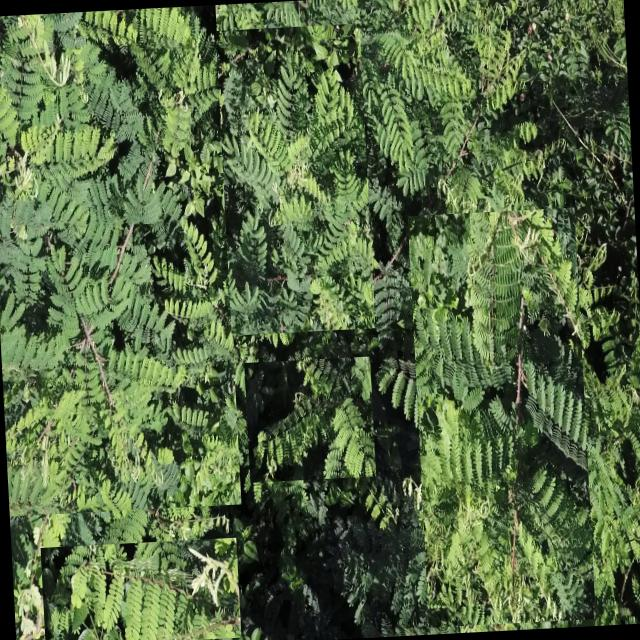Mysore-Thorn-Weed: (0, 5, 241, 516), (408, 208, 596, 628), (216, 23, 376, 336), (298, 0, 451, 194), (422, 0, 548, 191), (40, 537, 241, 640), (244, 357, 376, 482)
